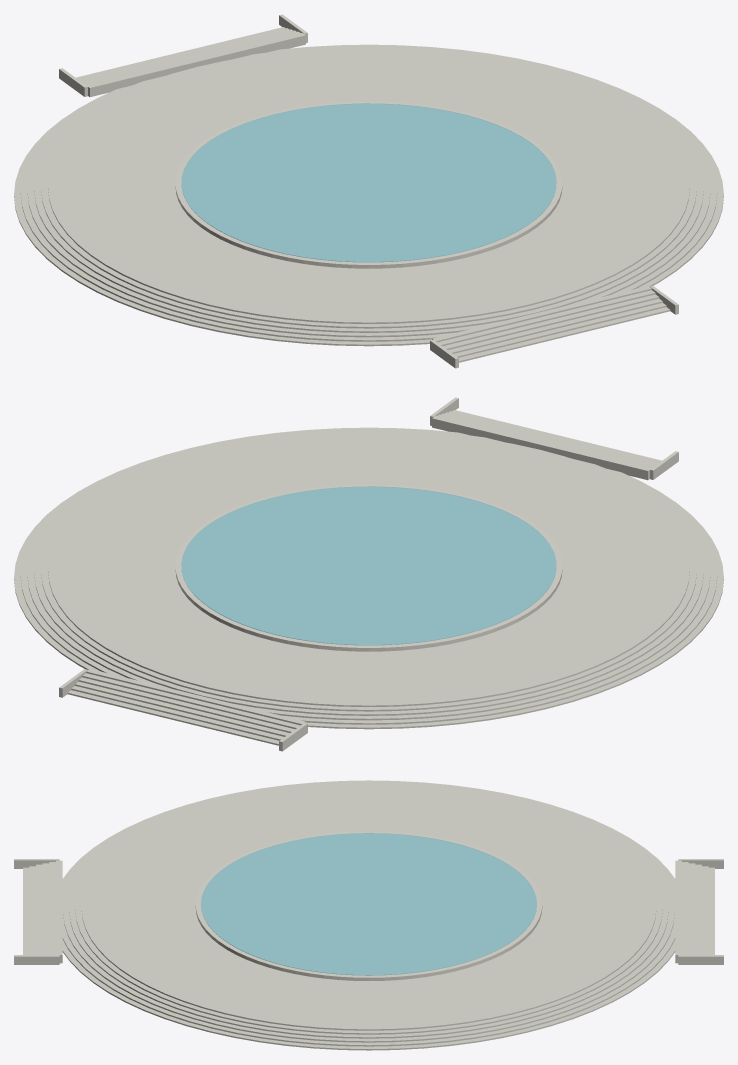
File: Scott_Fountain_Terraces_Study_LOD1.glb
3 renders of one model, top to bottom at view 1: azimuth 30°, elevation 25°; view 2: azimuth 150°, elevation 25°; view 3: azimuth 270°, elevation 25°, orthographic. The views are drawn at different scales.
Visible parts, largest first — view 1: Terrace/ConcentricTreads__marble, Terrace/WaterPlanePreview__water, Terrace/FrontApproachSteps__marble, Terrace/RaisedBasinPlaceholder__marbleEdge, Terrace/StairSideParapets__marbleEdge; view 2: Terrace/ConcentricTreads__marble, Terrace/WaterPlanePreview__water, Terrace/FrontApproachSteps__marble, Terrace/RaisedBasinPlaceholder__marbleEdge, Terrace/StairSideParapets__marbleEdge; view 3: Terrace/ConcentricTreads__marble, Terrace/WaterPlanePreview__water, Terrace/FrontApproachSteps__marble, Terrace/RaisedBasinPlaceholder__marbleEdge, Terrace/StairSideParapets__marbleEdge.
Boxes of the visible parts, x1,y1,x2,y2 form: Terrace/ConcentricTreads__marble: (14, 44, 723, 346); Terrace/WaterPlanePreview__water: (181, 103, 556, 262); Terrace/FrontApproachSteps__marble: (76, 27, 670, 362); Terrace/RaisedBasinPlaceholder__marbleEdge: (175, 101, 562, 268); Terrace/StairSideParapets__marbleEdge: (59, 14, 678, 368); Terrace/ConcentricTreads__marble: (14, 427, 723, 729); Terrace/WaterPlanePreview__water: (181, 486, 556, 645); Terrace/FrontApproachSteps__marble: (67, 410, 661, 745); Terrace/RaisedBasinPlaceholder__marbleEdge: (175, 484, 562, 651); Terrace/StairSideParapets__marbleEdge: (59, 397, 678, 751); Terrace/ConcentricTreads__marble: (62, 780, 675, 1050); Terrace/WaterPlanePreview__water: (201, 833, 536, 975); Terrace/FrontApproachSteps__marble: (23, 860, 714, 963); Terrace/RaisedBasinPlaceholder__marbleEdge: (195, 831, 542, 980); Terrace/StairSideParapets__marbleEdge: (14, 859, 723, 964).
Size of the model in its own units: 62.6 by 1.31 by 69.9.
